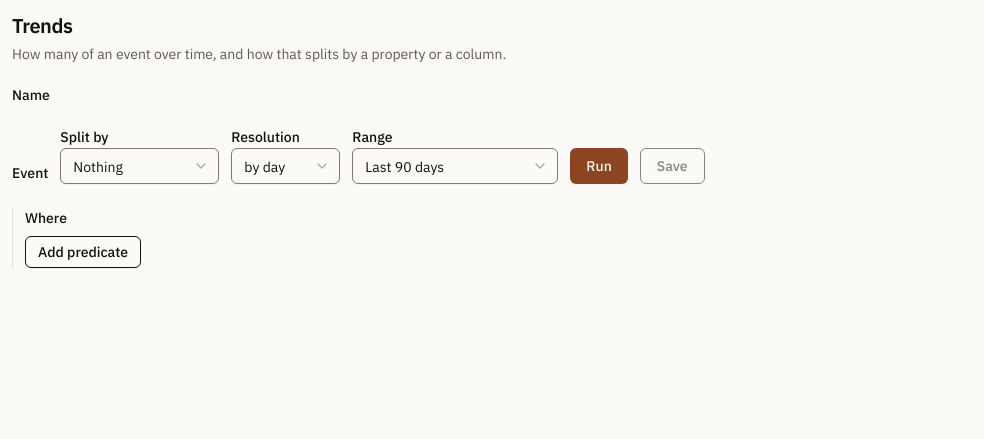
Test: Trends › clears the chart when the range changes, like every other control
Click the button "Run". click: (599, 166)
box: 570,148 -> 628,184
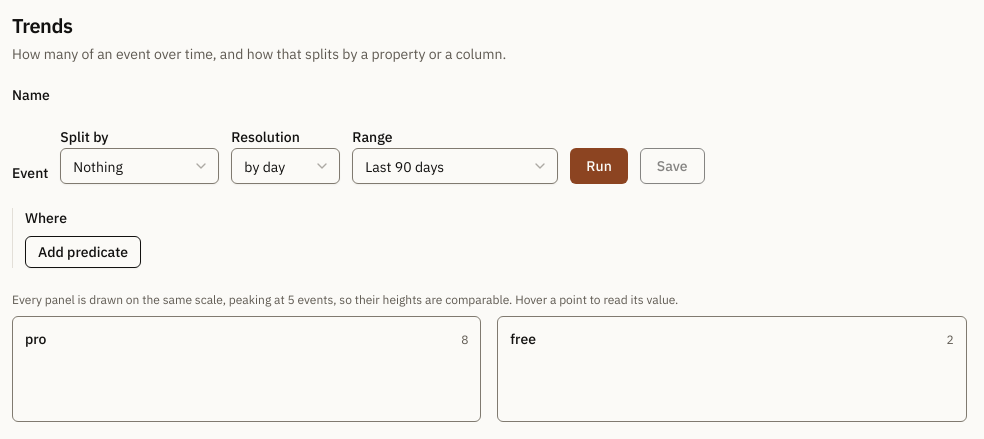
Check: the element with test id "trend-panels" is shown, box 12,292 -> 967,422
Select "Last 30 days" in the dropdown labelled "Range". click: (455, 166)
box: 352,148 -> 558,184
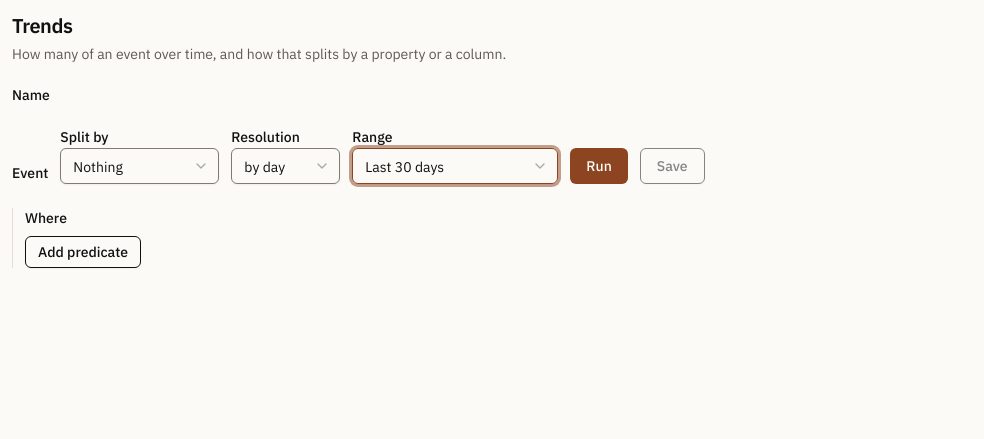
Check: the element with test id "trend-panels" is gone
